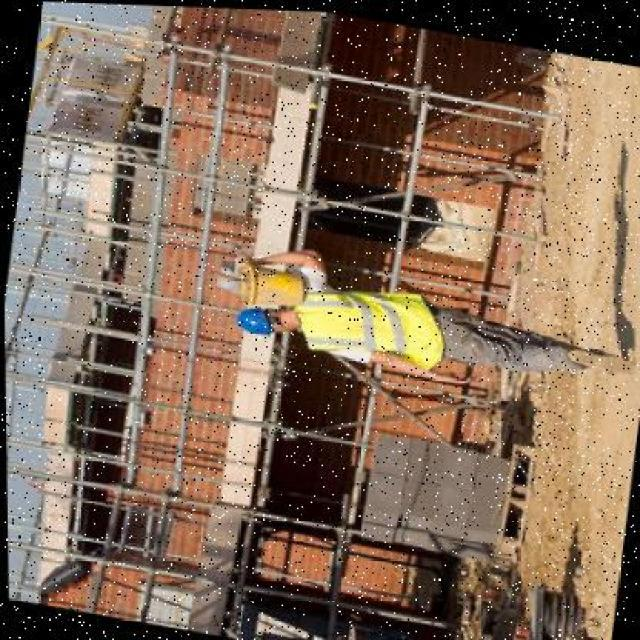helmet: (229, 296, 288, 341)
vest: (286, 262, 455, 373)
